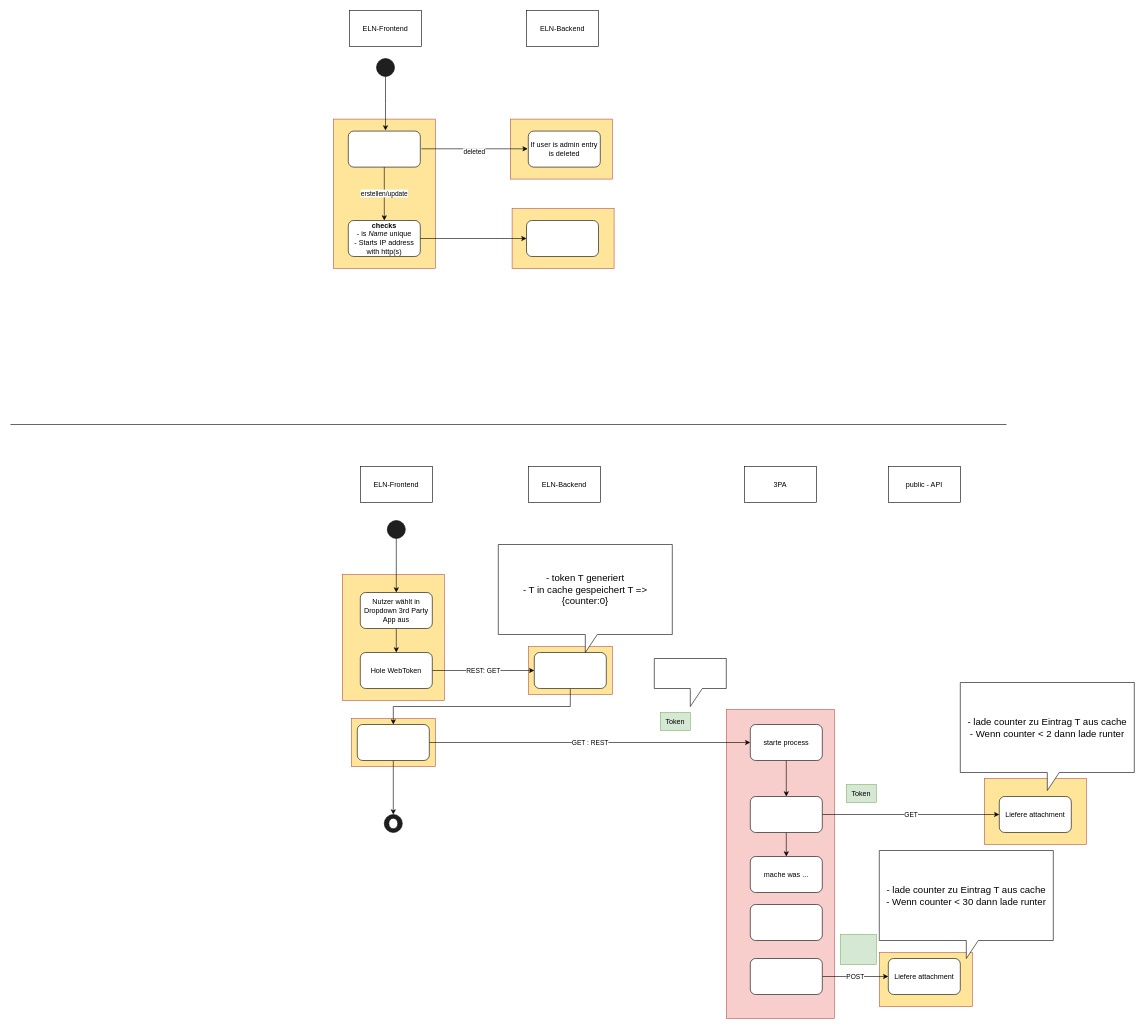
The diagram is 1145 pixels wide and 1029 high, and some of its shapes have lost their labels. The shapes that lost their labels are listed below. From the top down, each one's centre as x and y in pixels, then its label:
pixel 384 148: Admin erstellt/updated/deleted 3PA [Name, IP-address]
pixel 562 238: If user is admin entry is created/updated
pixel 570 670: Generate json -web token
pixel 690 682: user_id attachment_id
pixel 393 742: Baue request zusammen
pixel 786 814: Hole attachment
pixel 786 922: save as file
pixel 858 949: Token + File
pixel 786 976: sende manipuliertes attachment
